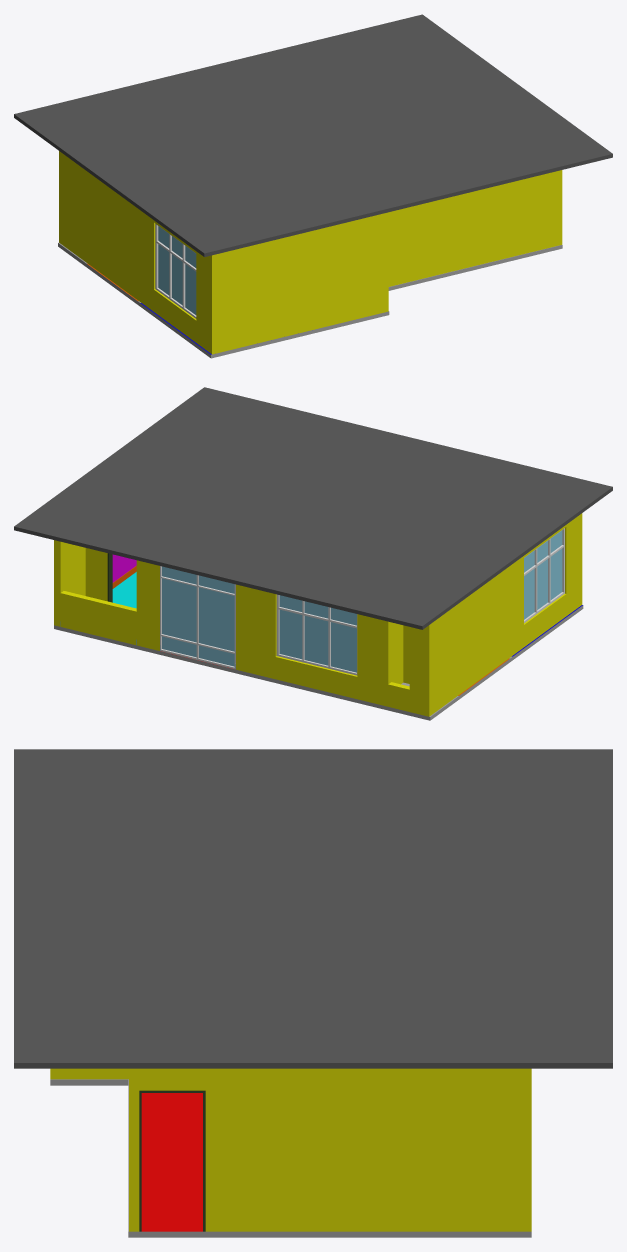
The model's file is Wing_A_Flat_No_01_Type02_MatID.fbx.
3 renders of one model, top to bottom at view 1: azimuth 30°, elevation 25°; view 2: azimuth 150°, elevation 25°; view 3: azimuth 270°, elevation 25°, orthographic. The views are drawn at different scales.
Visible parts, largest first — view 1: Roof, walls, Floor, Flat_No_03_Type03:Glass1, Flat_No_03_Type03:Window_Frame; view 2: Roof, walls, balacony_door:Door_Glass1, Glass1, Floor, Flat_No_03_Type03:Glass1, balacony_door:Flat_No_03_Type03:Door_frame_03, Window_Frame, Flat_No_03_Type03:Window_Frame; view 3: Roof, walls, Floor, pCube12.
Boxes of the visible parts, left/top/right/bottom form: Roof: left=14, top=14, right=612, bottom=257; walls: left=59, top=151, right=562, bottom=354; Floor: left=58, top=242, right=562, bottom=358; Flat_No_03_Type03:Glass1: left=158, top=226, right=196, bottom=314; Flat_No_03_Type03:Window_Frame: left=155, top=223, right=196, bottom=318; Roof: left=14, top=387, right=612, bottom=629; walls: left=54, top=513, right=582, bottom=716; balacony_door:Door_Glass1: left=162, top=566, right=234, bottom=666; Glass1: left=279, top=595, right=356, bottom=672; Floor: left=54, top=572, right=583, bottom=720; Flat_No_03_Type03:Glass1: left=524, top=530, right=562, bottom=619; balacony_door:Flat_No_03_Type03:Door_frame_03: left=160, top=566, right=235, bottom=669; Window_Frame: left=276, top=594, right=357, bottom=675; Flat_No_03_Type03:Window_Frame: left=524, top=528, right=564, bottom=622; Roof: left=14, top=749, right=612, bottom=1068; walls: left=50, top=1068, right=531, bottom=1231; Floor: left=50, top=1079, right=531, bottom=1237; pCube12: left=139, top=1090, right=205, bottom=1231.
Size of the model in its own units: 1146 by 316 by 925.
